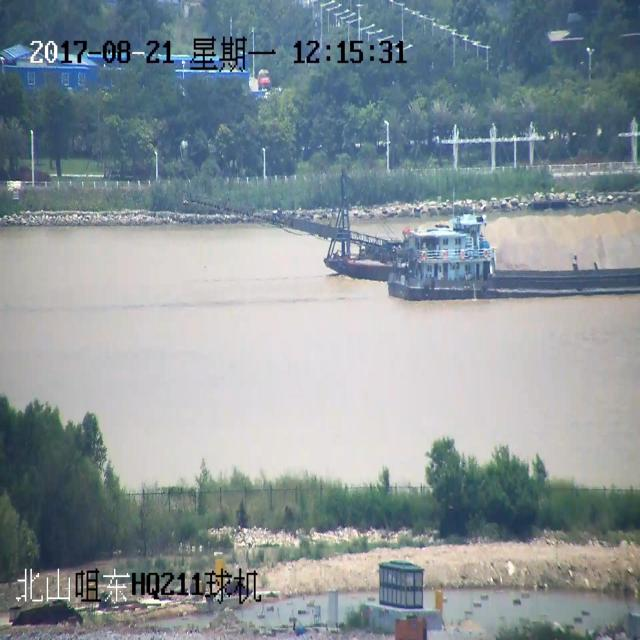cargoship: (376, 214, 640, 344), (287, 190, 370, 270)
